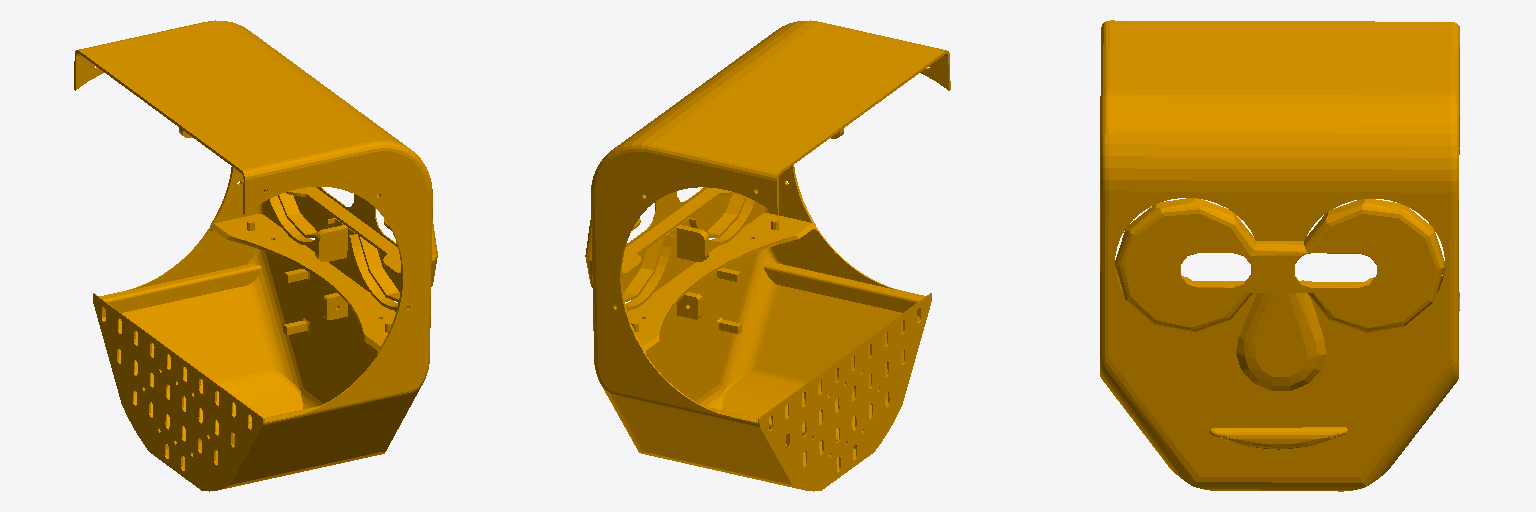
The robot description file, URDF, robot "head.urdf":
<?xml version="1.0" encoding="utf-8"?>
<robot name="head.urdf">
  <link name="baseLink">
<!--     <contact>
      <lateral_friction value="0.5"/>
      <rolling_friction value="0.001"/>
      <spinning_friction value="0.001"/>
    </contact> -->
<!--     <inertial>
      <origin rpy="0 0 0" xyz="0 0 0"/>
       <mass value="0.0"/>
       <inertia ixx="1" ixy="0" ixz="0" iyy="1" iyz="0" izz="1"/>
    </inertial> -->
    <visual>
      <origin rpy="0 0 0" xyz="0 0 -0.806"/>
      <geometry>
         <mesh filename="head.obj"/>
      </geometry>
    </visual>
<!--     <collision>
      <origin rpy="0 0 0" xyz="0 0 0"/>
      <geometry>
        <mesh filename="concave.obj"/>
      </geometry>
    </collision> -->
  </link>
</robot>

--- What the picture shows (computed from the rendered views, not written in the file) ---
Views: 3 orthographic renders of the robot side by side, from view 1: azimuth 30°, elevation 25°; view 2: azimuth 150°, elevation 25°; view 3: azimuth 270°, elevation 25°.
Robot: head.urdf — 1 links, 0 joints (none); root link baseLink; default pose: all joints at 0.
Links seen in each view (by area): view 1: baseLink; view 2: baseLink; view 3: baseLink.
Boxes of the visible links, x1,y1,x2,y2 form: baseLink: [74, 20, 437, 491]; baseLink: [585, 20, 950, 491]; baseLink: [1100, 20, 1459, 491].
Size in the robot's own frame: 0.1599 by 0.2332 by 0.2745 metres.
Meshes: 1 distinct files referenced, 1 mesh visuals loaded (1 OBJ).
